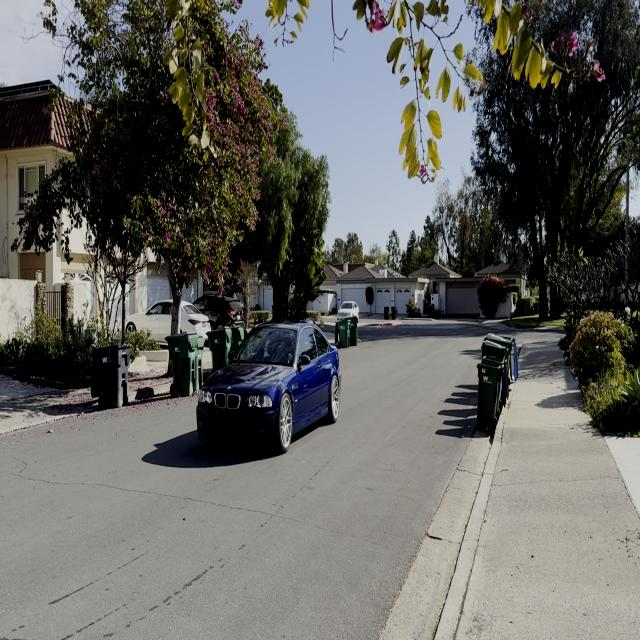Carbeetle: (194, 313, 350, 459)
